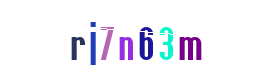3: (127, 0, 207, 80)
6: (97, 0, 177, 80)
7: (86, 0, 166, 80)
J: (81, 0, 161, 80)
M: (150, 0, 230, 80)
N: (88, 0, 168, 80)
R: (74, 0, 154, 80)
